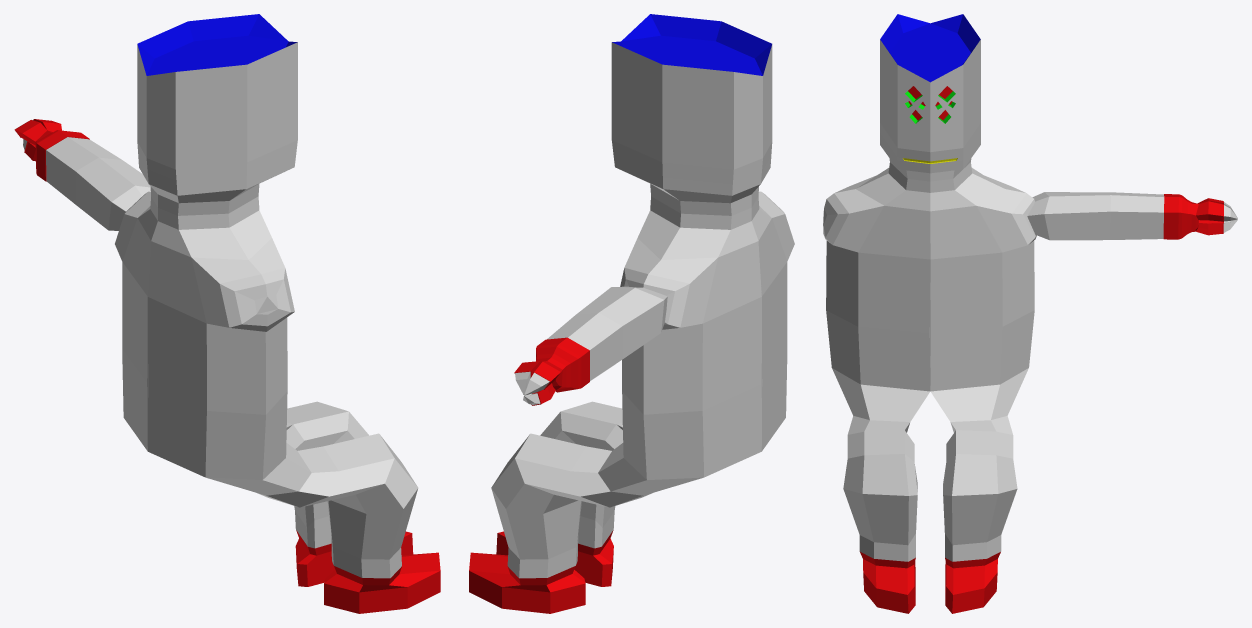
Rendered from Dilley1SplitColored.fbx.
3 views of the same model, side by side, from view 1: azimuth 30°, elevation 25°; view 2: azimuth 150°, elevation 25°; view 3: azimuth 270°, elevation 25° (orthographic). The views are drawn at different scales.
Parts seen in each view (by area): view 1: Cylinder.003, Cylinder.004, Cylinder.001, Cylinder.002; view 2: Cylinder.003, Cylinder.004, Cylinder.001, Cylinder.002; view 3: Cylinder.003, Cylinder.004, Cylinder.001, Cylinder.002.
Boxes of the visible parts, x1,y1,x2,y2 form: Cylinder.003: (115,184,440,613); Cylinder.004: (137,14,297,203); Cylinder.001: (14,119,121,204); Cylinder.002: (75,157,150,230); Cylinder.003: (469,184,794,613); Cylinder.004: (611,14,772,203); Cylinder.001: (514,312,622,405); Cylinder.002: (576,286,667,358); Cylinder.003: (823,158,1036,613); Cylinder.004: (880,14,980,173); Cylinder.001: (1110,192,1237,239); Cylinder.002: (1027,192,1110,240).
Size of the model in its own units: 279 by 548 by 420.
